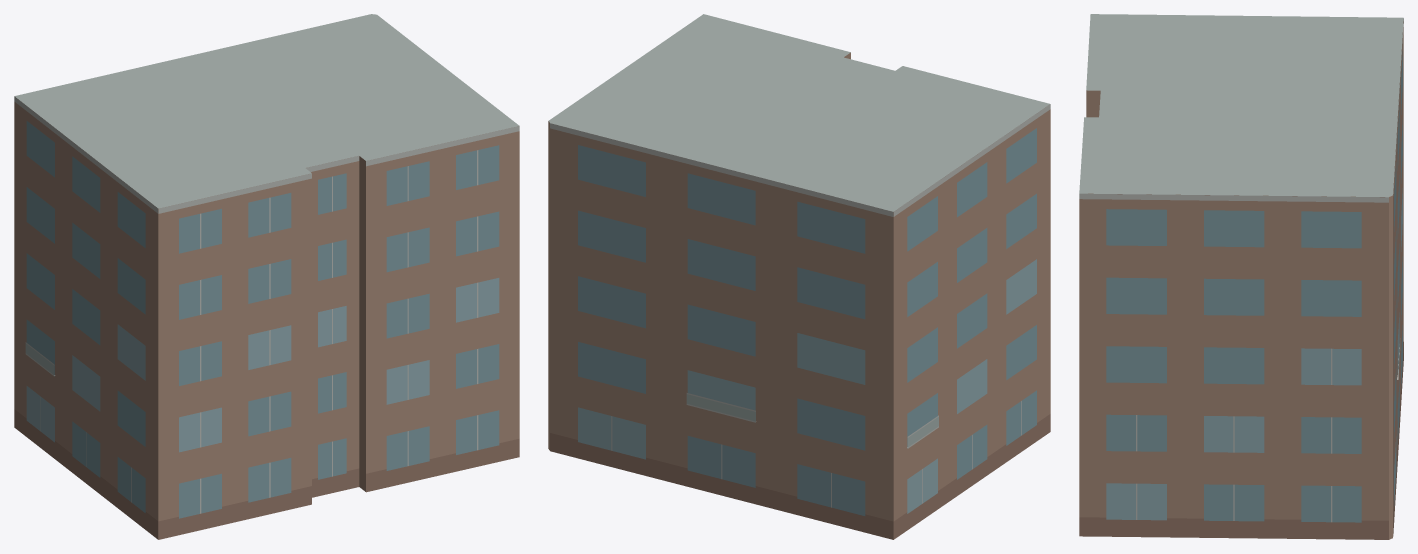
Rendered from survey-upis-32760134.glb.
The picture shows the model from 3 angles, left to right: view 1: azimuth 30°, elevation 25°; view 2: azimuth 150°, elevation 25°; view 3: azimuth 270°, elevation 25°; orthographic projection. The views are drawn at different scales.
Visible parts, largest first — view 1: survey-upis-32760134.tmp; view 2: survey-upis-32760134.tmp; view 3: survey-upis-32760134.tmp.
Boxes of the visible parts, <box> form: survey-upis-32760134.tmp: <box>14,14,519,539</box>; survey-upis-32760134.tmp: <box>548,14,1050,539</box>; survey-upis-32760134.tmp: <box>1079,14,1403,539</box>.
Bounding box in the file's own units: 17.49 × 15.25 × 13.1.
